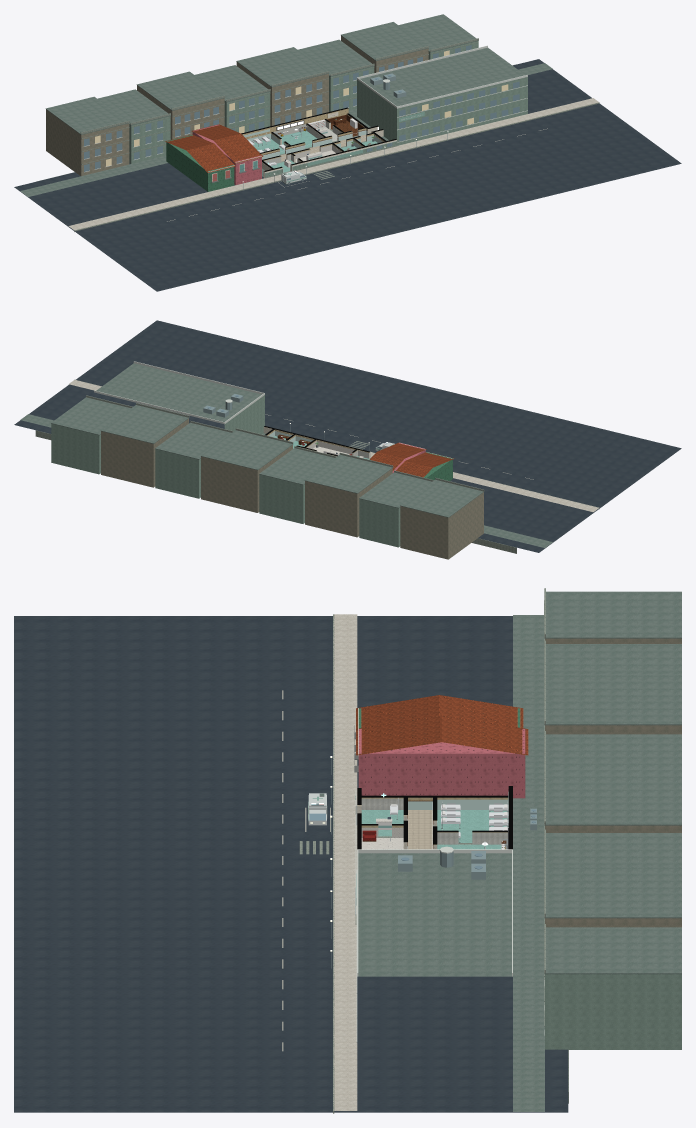
Rendered from clinica.glb.
3 renders of one model, top to bottom at view 1: azimuth 30°, elevation 25°; view 2: azimuth 150°, elevation 25°; view 3: azimuth 270°, elevation 25°, orthographic. The views are drawn at different scales.
Visible parts, largest first — view 1: Lapa_c11_road, Lapa_c11_roof, Lapa_c11_facade, Lapa_c11_ochre, Lapa_c11_glass, Lapa_c11_stone, Lapa_pedra, Lapa_side_roof, Lapa_c11_trim, Lapa_side_facade_green, Lapa_cap, Lapa_plaster (+6 smaller); view 2: Lapa_c11_road, Lapa_c11_roof, Lapa_c11_ochre, Lapa_c11_facade, Lapa_c11_stone, Lapa_side_roof, Lapa_pedra, Lapa_c11_trim, Lapa_side_facade_green, Lapa_marble; view 3: Lapa_c11_road, Lapa_c11_roof, Lapa_pedra, Lapa_c11_facade, Lapa_side_facade_pink, Lapa_side_roof, Lapa_c11_ochre, Lapa_c11_stone, Lapa_vinil, Lapa_cap, Lapa_c11_trim, Lapa_white_tile (+4 smaller).
Part boxes in pixels (x1,y1,x2,y2): Lapa_c11_road: (14, 59, 681, 291); Lapa_c11_roof: (20, 14, 552, 196); Lapa_c11_facade: (129, 41, 527, 177); Lapa_c11_ochre: (46, 36, 428, 176); Lapa_c11_glass: (84, 45, 519, 180); Lapa_c11_stone: (36, 38, 599, 231); Lapa_pedra: (68, 98, 598, 230); Lapa_side_roof: (165, 124, 263, 172); Lapa_c11_trim: (83, 45, 527, 173); Lapa_side_facade_green: (166, 135, 234, 191); Lapa_cap: (241, 107, 396, 171); Lapa_plaster: (242, 108, 388, 169); Lapa_c11_road: (14, 320, 681, 552); Lapa_c11_roof: (20, 363, 552, 547); Lapa_c11_ochre: (101, 418, 483, 559); Lapa_c11_facade: (51, 395, 400, 547); Lapa_c11_stone: (35, 379, 599, 553); Lapa_side_roof: (369, 442, 454, 477); Lapa_pedra: (69, 380, 598, 512); Lapa_c11_trim: (94, 361, 370, 457); Lapa_side_facade_green: (424, 452, 452, 480); Lapa_marble: (307, 441, 363, 457); Lapa_c11_road: (14, 616, 568, 1112); Lapa_c11_roof: (308, 591, 681, 1111); Lapa_pedra: (333, 614, 357, 1110); Lapa_c11_facade: (545, 974, 681, 1049); Lapa_side_facade_pink: (358, 729, 525, 798); Lapa_side_roof: (356, 695, 528, 755); Lapa_c11_ochre: (545, 638, 681, 927); Lapa_c11_stone: (299, 588, 568, 1113); Lapa_vinil: (361, 810, 508, 849); Lapa_cap: (357, 786, 512, 849); Lapa_c11_trim: (355, 789, 544, 1042); Lapa_white_tile: (361, 798, 507, 848).
Size of the model in its own units: 120 by 11.37 by 68.2.
Materials: 60 (21 with a texture image).
